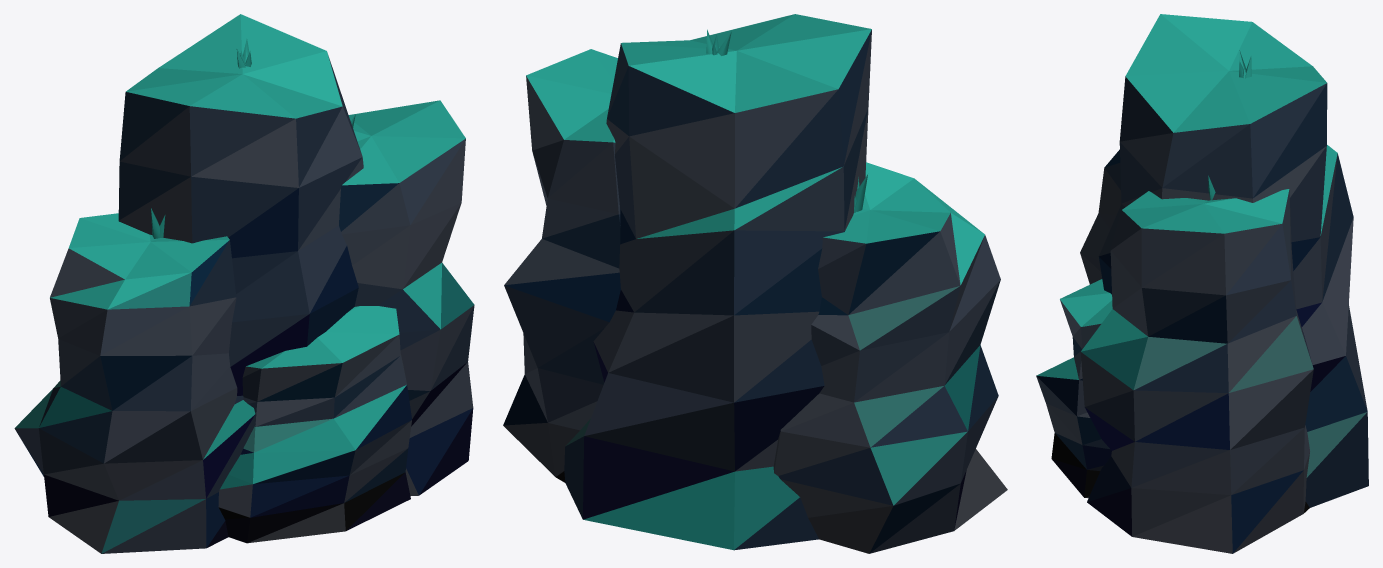
Rendered from batu_cliff_basalt_925465.glb.
3 views of the same model, side by side, from view 1: azimuth 30°, elevation 25°; view 2: azimuth 150°, elevation 25°; view 3: azimuth 270°, elevation 25° (orthographic). The views are drawn at different scales.
Parts seen in each view (by area): view 1: Tebing_Sungai_Curam; view 2: Tebing_Sungai_Curam; view 3: Tebing_Sungai_Curam.
Part boxes in pixels (x1,y1,x2,y2): Tebing_Sungai_Curam: [14, 14, 474, 553]; Tebing_Sungai_Curam: [503, 14, 1007, 553]; Tebing_Sungai_Curam: [1036, 14, 1368, 553].
Size of the model in its own units: 7.08 by 6.88 by 5.
